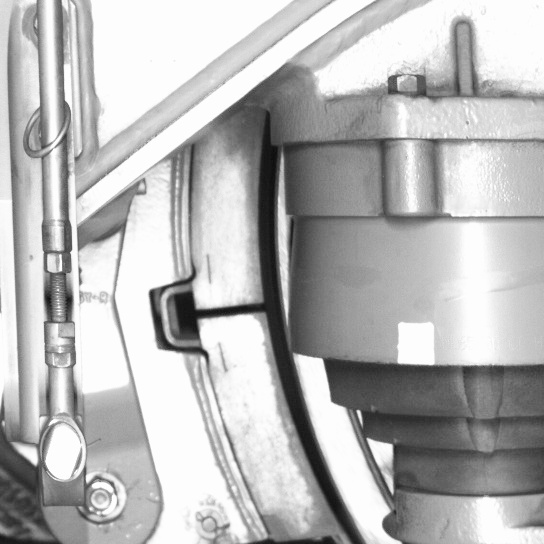KnifeSwitch: (190, 141, 365, 542)
